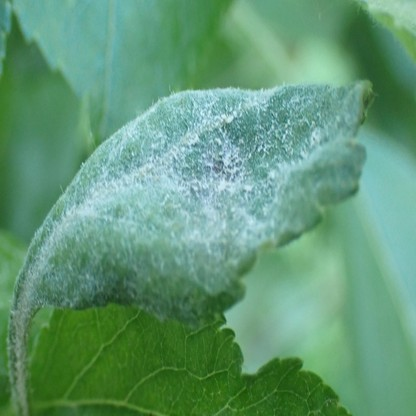powder: (17, 85, 375, 317)
